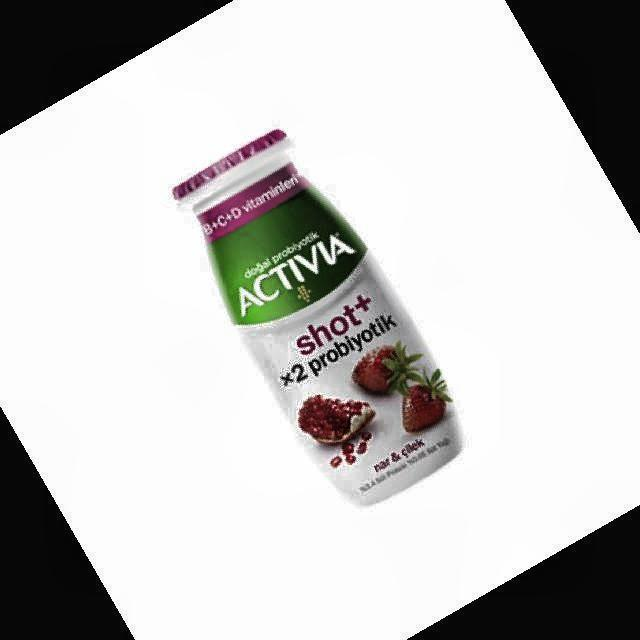plastic: (174, 130, 461, 504)
